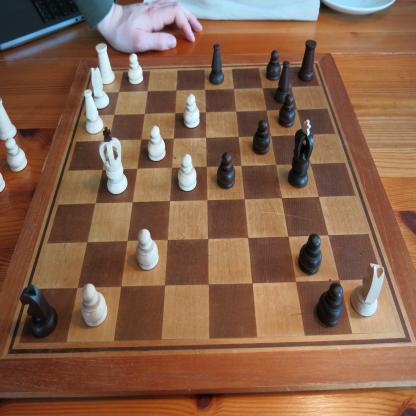black-bishop: (273, 60, 291, 105), (208, 43, 225, 86)
black-king: (287, 119, 314, 189)
black-knight: (19, 283, 59, 339)
black-pawn: (316, 282, 344, 327), (298, 233, 322, 276), (216, 152, 236, 190), (252, 119, 271, 156), (278, 93, 296, 128), (266, 49, 282, 82)
black-rook: (298, 39, 317, 82)
white-bishop: (84, 89, 104, 135)
white-king: (99, 126, 128, 195)
white-knight: (350, 262, 384, 318), (91, 66, 110, 110)
white-pawn: (80, 283, 108, 328), (136, 228, 159, 271), (4, 138, 28, 174), (177, 153, 197, 192), (147, 125, 166, 162), (183, 93, 200, 128), (127, 52, 144, 86)
white-rook: (94, 43, 116, 85), (0, 97, 18, 141)
